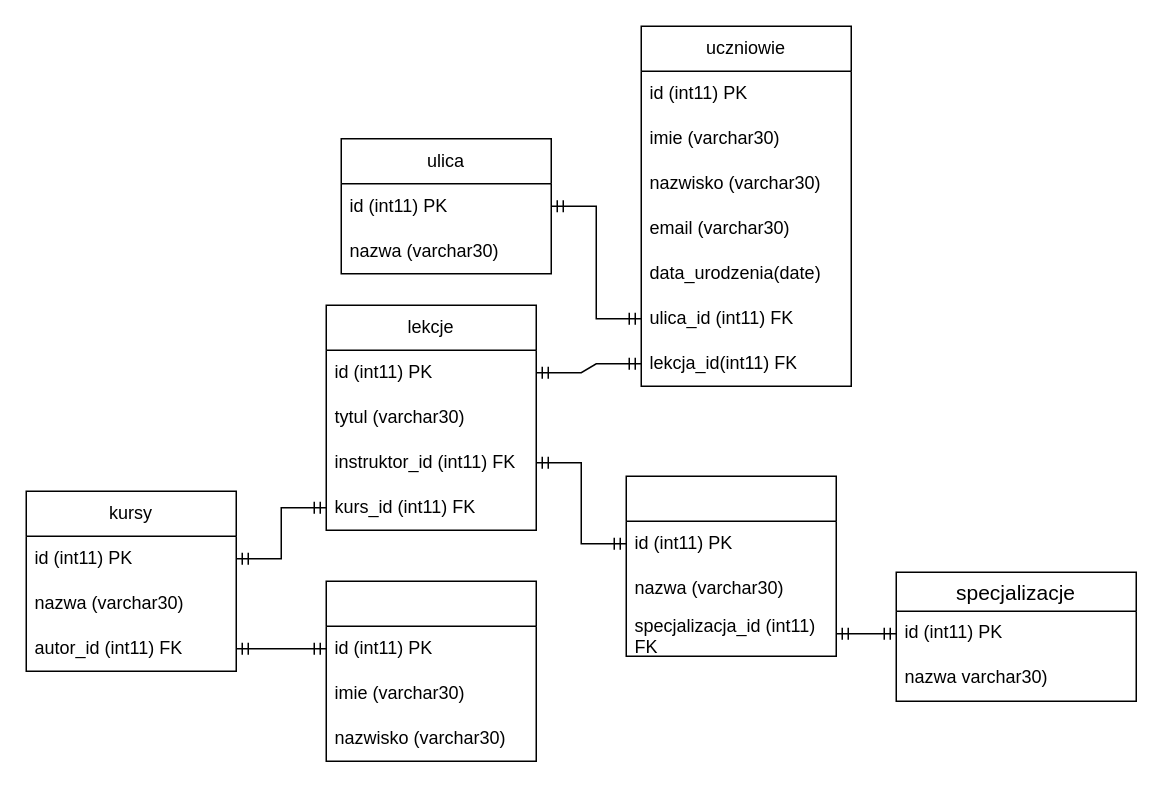
Some shapes in this 1163 by 788 pixel diagram are drawn without their labels. Here are the shapes that lost their labels. From the top down, the box of each, then its label:
(625, 475, 836, 656): instruktorzy
(325, 580, 536, 761): autorzy
